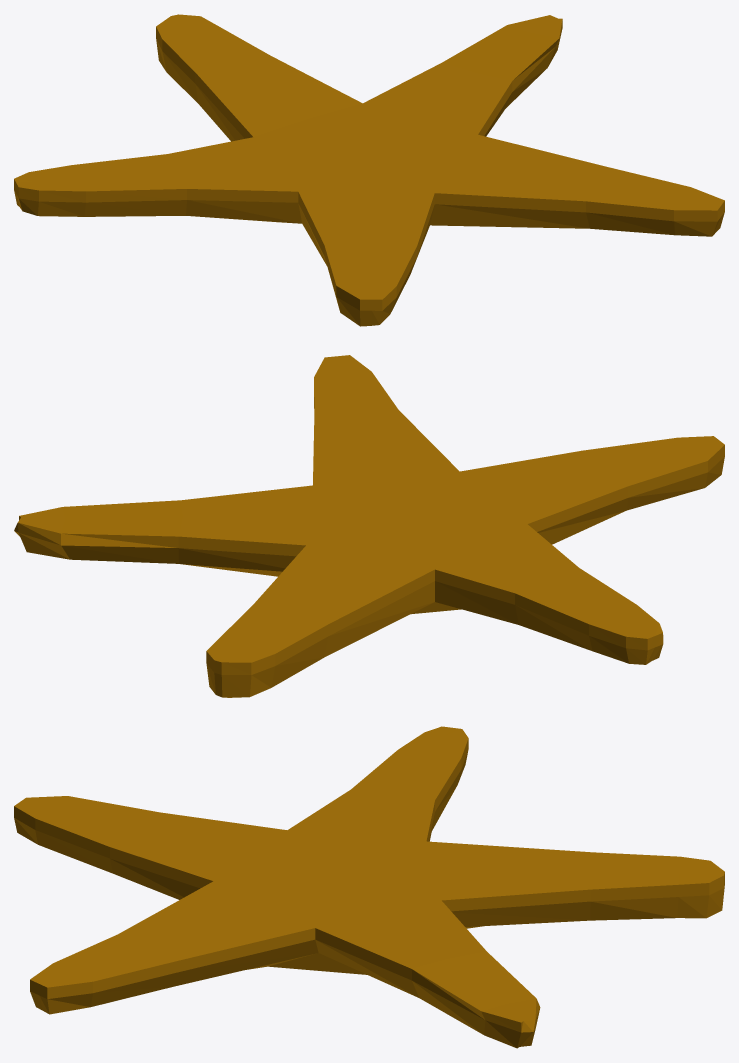
Rendered from starfish.fbx.
3 renders of one model, top to bottom at view 1: azimuth 30°, elevation 25°; view 2: azimuth 150°, elevation 25°; view 3: azimuth 270°, elevation 25°, orthographic. The views are drawn at different scales.
Parts seen in each view (by area): view 1: pCube1; view 2: pCube1; view 3: pCube1.
Part boxes in pixels (<box>): pCube1: <box>14,14,724,326</box>; pCube1: <box>14,355,724,697</box>; pCube1: <box>14,726,724,1048</box>.
Size of the model in its own units: 2.4 by 0.2759 by 2.44.
